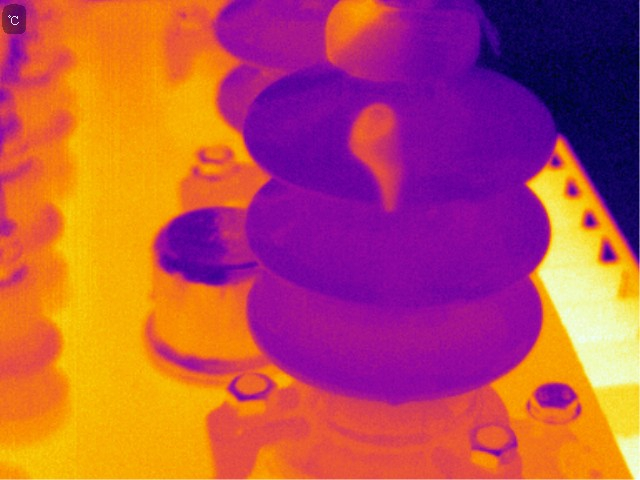Oil: (344, 97, 406, 218), (320, 1, 399, 80)
